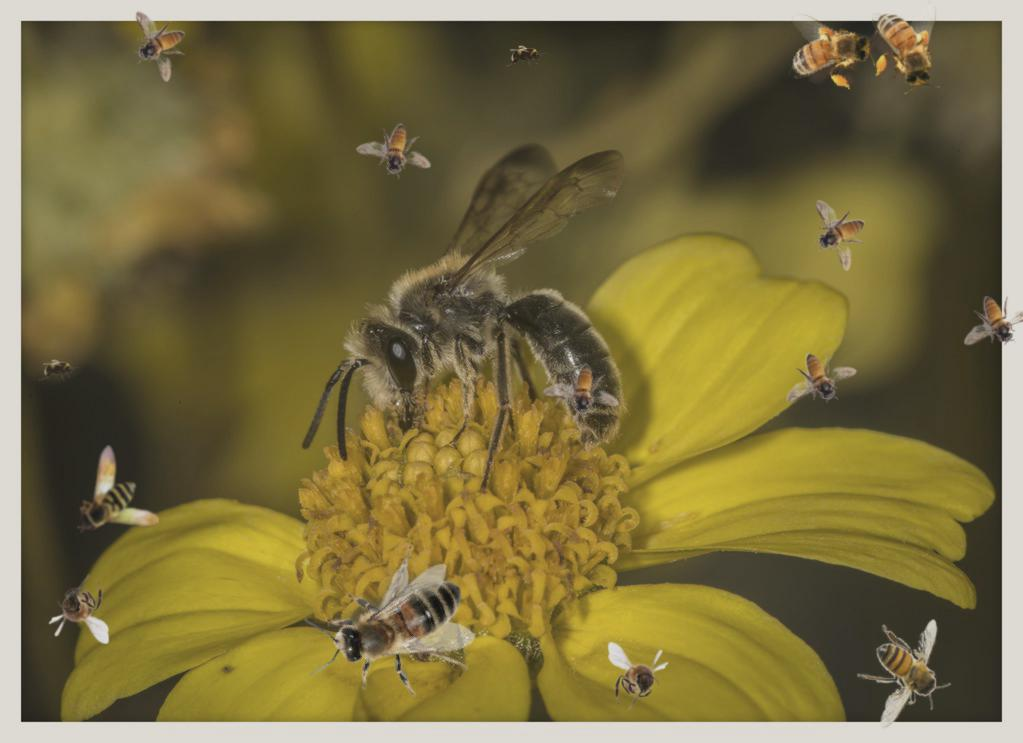Bee: (282, 517, 507, 741), (857, 619, 951, 730), (776, 7, 884, 98), (354, 110, 442, 193), (77, 445, 159, 533), (541, 351, 629, 432), (872, 1, 940, 94), (48, 574, 109, 644), (608, 642, 669, 712), (135, 11, 185, 82), (786, 353, 857, 403), (815, 200, 865, 271), (964, 296, 1023, 346), (39, 359, 79, 381), (506, 45, 546, 67)
